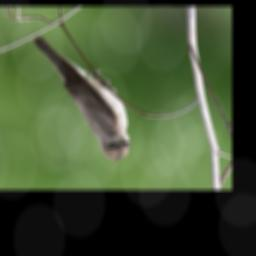Swallow: (29, 34, 131, 161)
